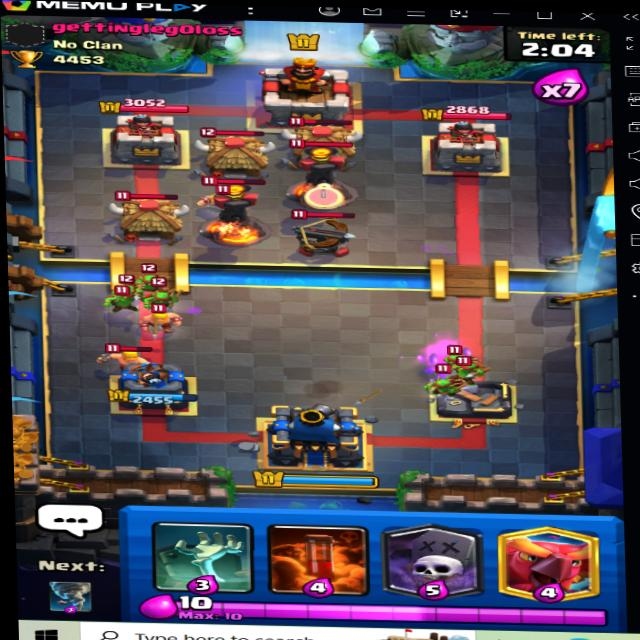Barbarian: (102, 339, 163, 374), (131, 303, 191, 336)
Goblinhut: (106, 187, 193, 242), (192, 124, 275, 180), (281, 115, 364, 168)
Infernotower: (193, 172, 285, 254), (287, 141, 358, 208)
Speargoblin: (450, 349, 489, 386), (425, 362, 462, 398), (138, 282, 179, 312), (135, 263, 174, 292), (107, 287, 142, 317), (442, 339, 468, 369)
Xbow: (279, 202, 362, 257)
